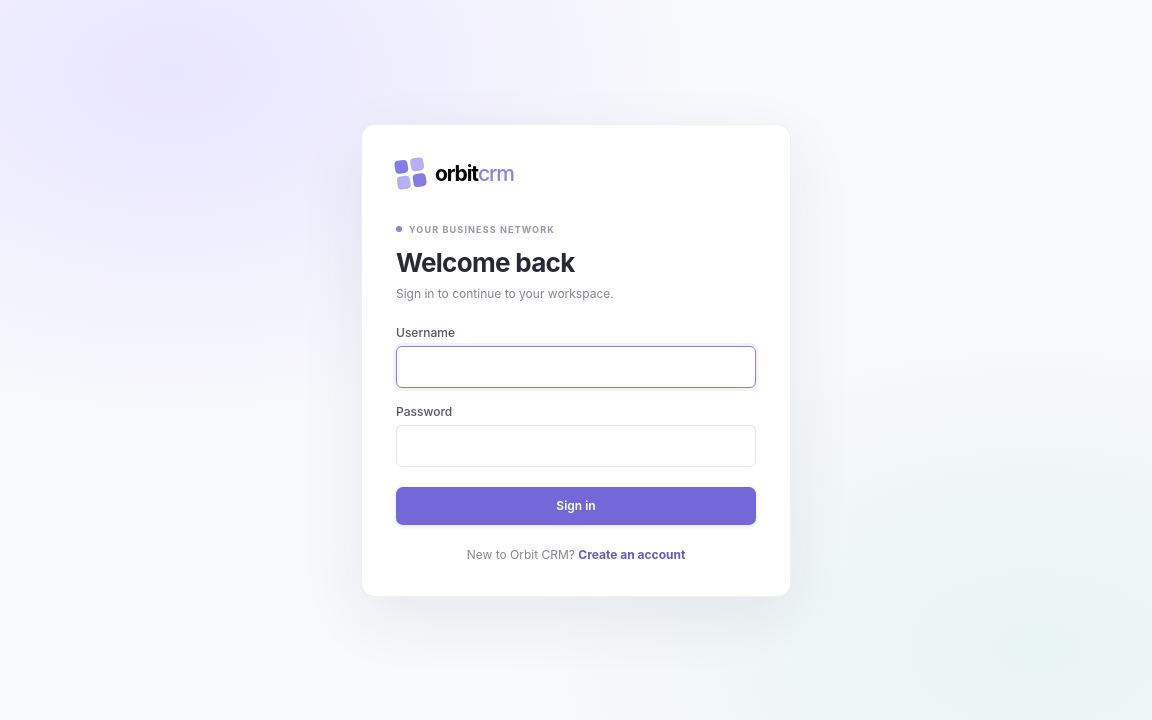
Test case: shows the credential error when login is rejected
Type "taylor" into the field labelled "Username" at (576, 366), box left=396, top=346, right=756, bottom=388
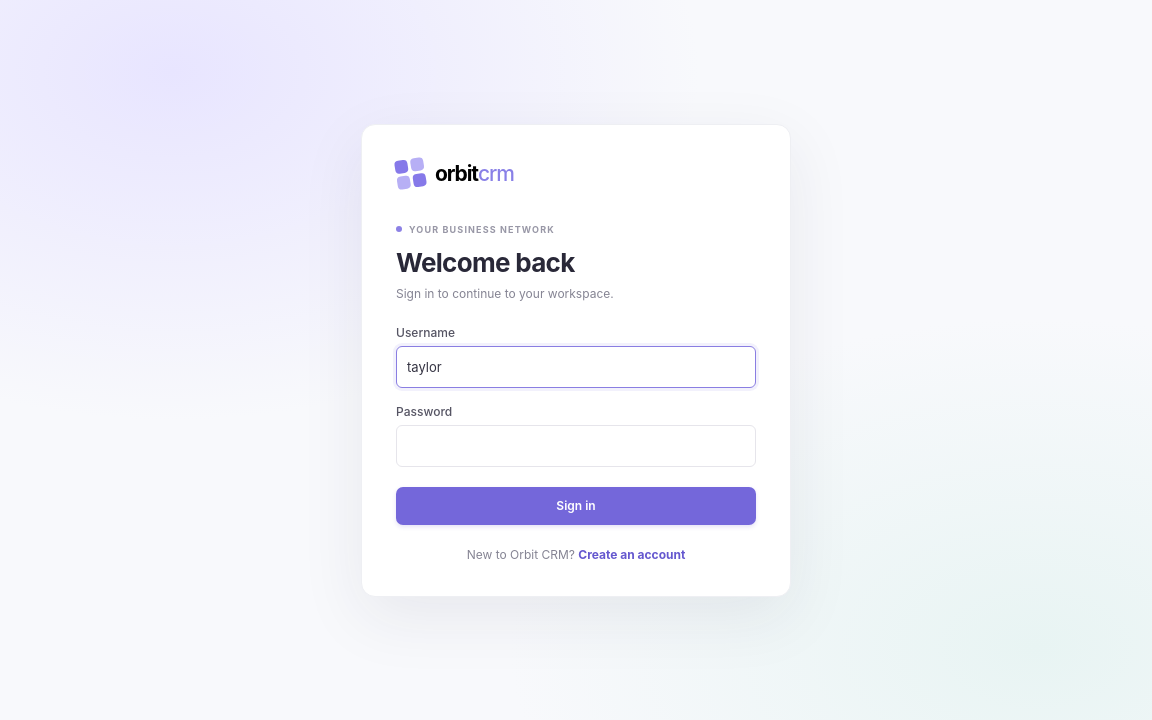
Type "wrong-password" into the password field labelled "Password" at (576, 446), box left=396, top=424, right=756, bottom=466
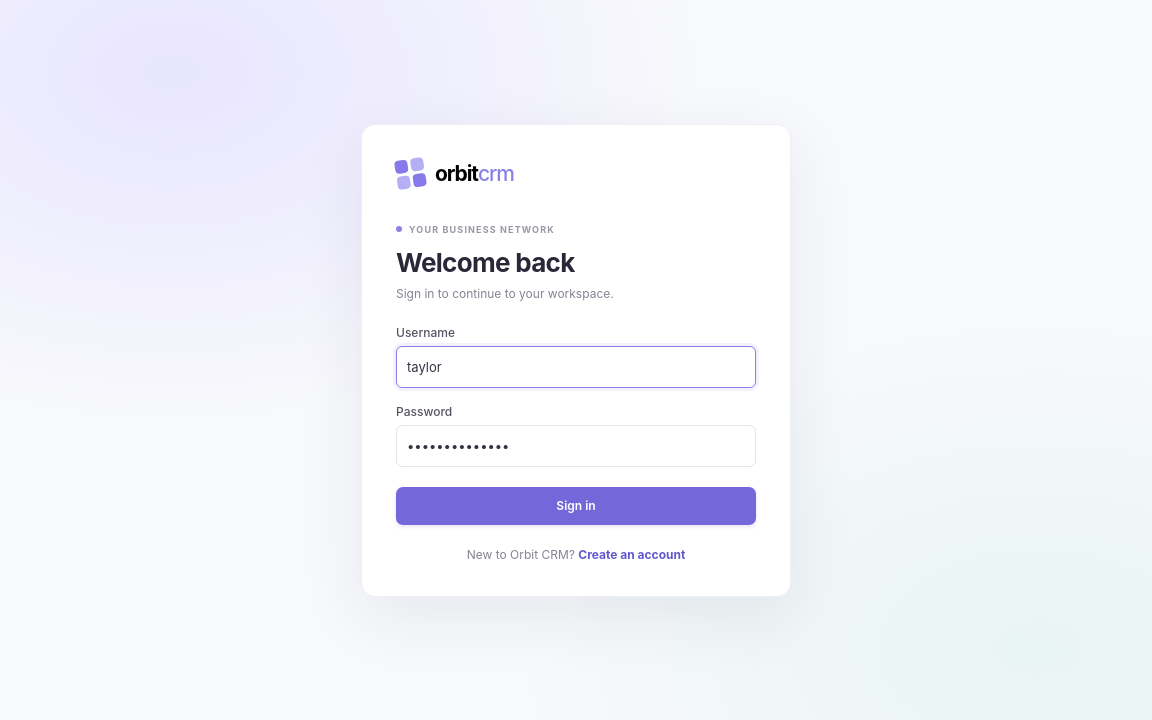
Click the button "Sign in" at (576, 506), box left=396, top=486, right=756, bottom=524
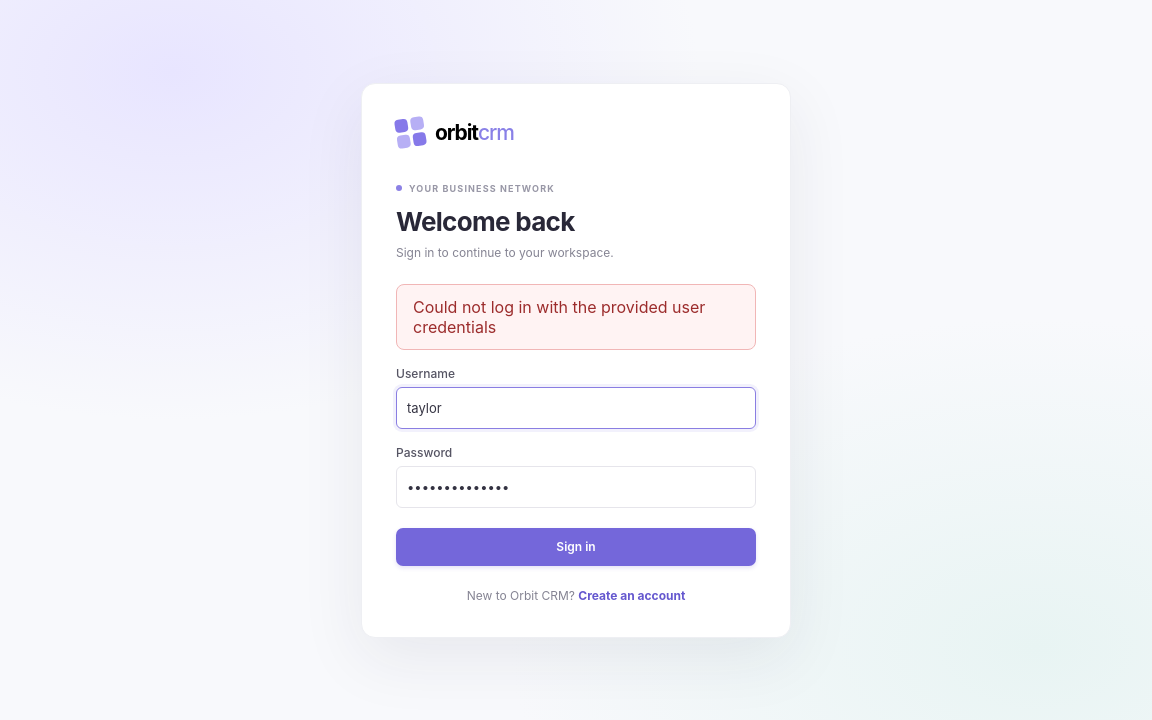
Expected: the message reads "Could not log in with the provided user credentials", left=413, top=296, right=705, bottom=336
